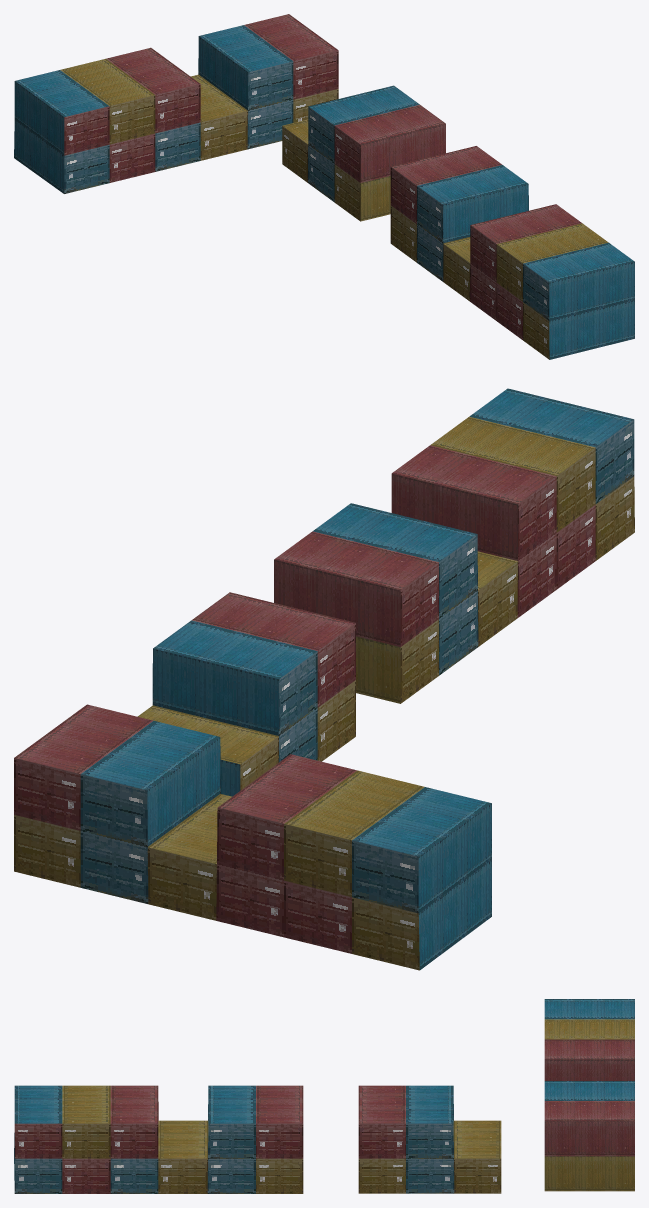
Rendered from lodntbox12.obj.
3 views of the same model, one above another, from view 1: azimuth 30°, elevation 25°; view 2: azimuth 150°, elevation 25°; view 3: azimuth 270°, elevation 25° (orthographic). The views are drawn at different scales.
Visible parts, largest first — view 1: lodntbox12; view 2: lodntbox12; view 3: lodntbox12.
Part boxes in pixels (left/top/right/bottom): lodntbox12: left=14, top=14, right=634, bottom=359; lodntbox12: left=14, top=388, right=634, bottom=970; lodntbox12: left=14, top=999, right=634, bottom=1193.
Bounding box in the file's own units: 30.52 × 8 × 64.17.
6 materials, 6 textured.
